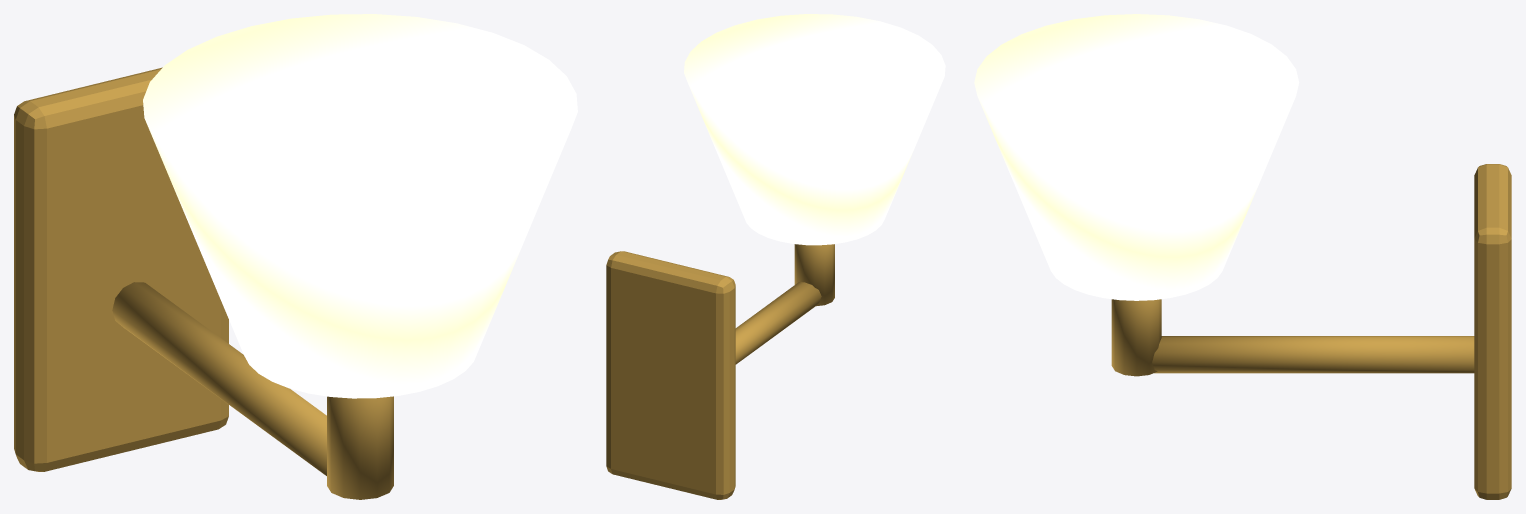
The model's file is wandlampe.glb.
3 views of the same model, side by side, from view 1: azimuth 30°, elevation 25°; view 2: azimuth 150°, elevation 25°; view 3: azimuth 270°, elevation 25° (orthographic). The views are drawn at different scales.
Visible parts, largest first — view 1: Cone, Cube, Cylinder, Cylinder.001; view 2: Cone, Cube, Cylinder, Cylinder.001; view 3: Cone, Cube, Cylinder, Cylinder.001.
Boxes of the visible parts, x1,y1,x2,y2 form: Cone: (143, 14, 577, 398); Cube: (14, 67, 228, 471); Cylinder: (112, 282, 326, 475); Cylinder.001: (327, 396, 393, 499); Cone: (684, 14, 945, 245); Cube: (606, 251, 735, 499); Cylinder: (735, 282, 821, 364); Cylinder.001: (794, 244, 834, 306); Cone: (974, 14, 1299, 300); Cube: (1474, 164, 1511, 499); Cylinder: (1152, 336, 1474, 373); Cylinder.001: (1111, 299, 1161, 376).
Bounding box in the file's own units: 0.26 × 0.34 × 0.43.
